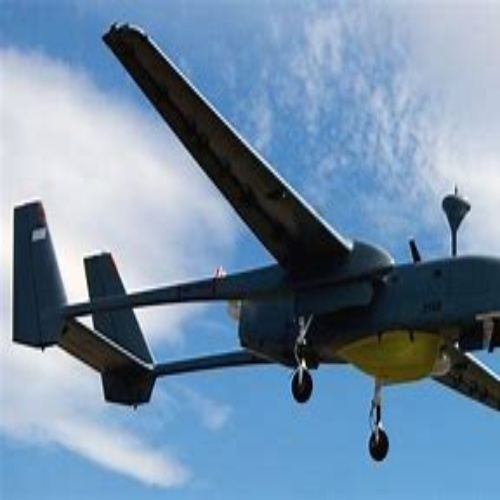uav: (10, 19, 500, 462)
